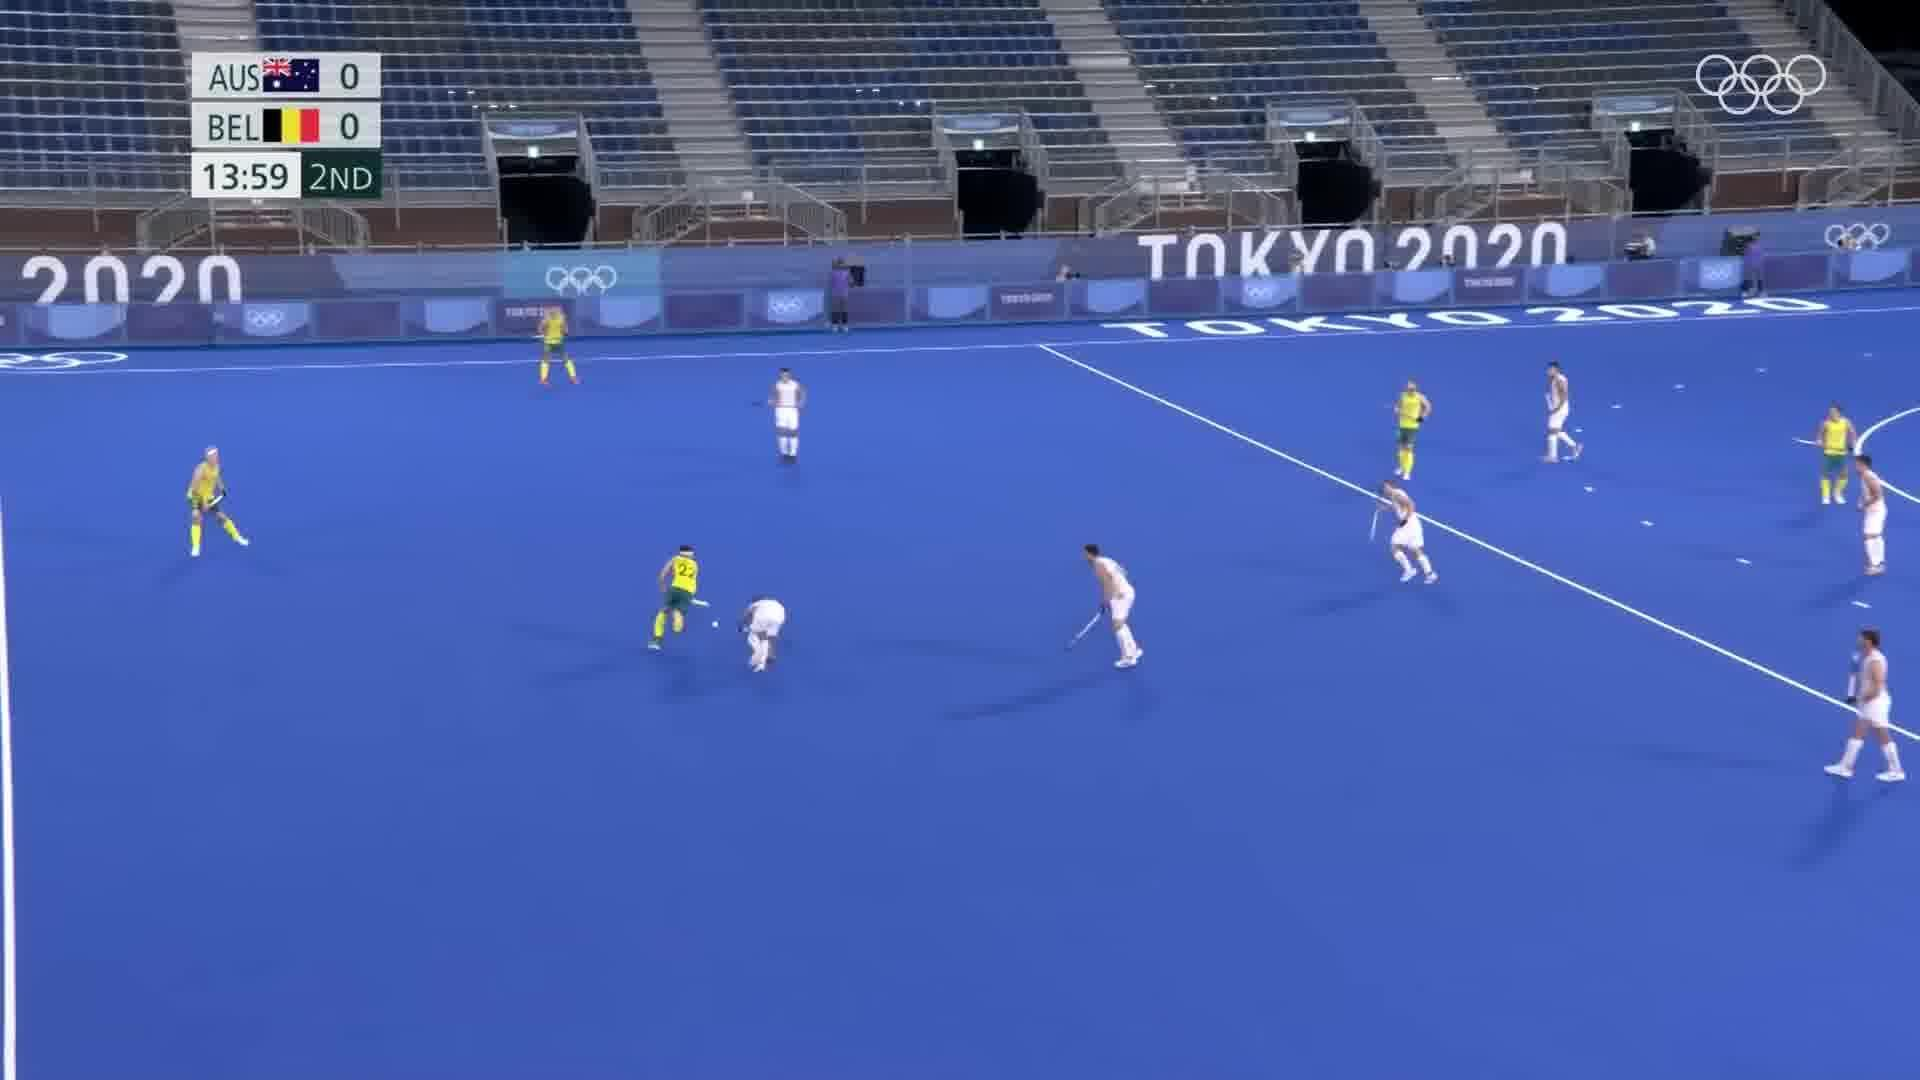ball: (709, 618, 721, 633)
